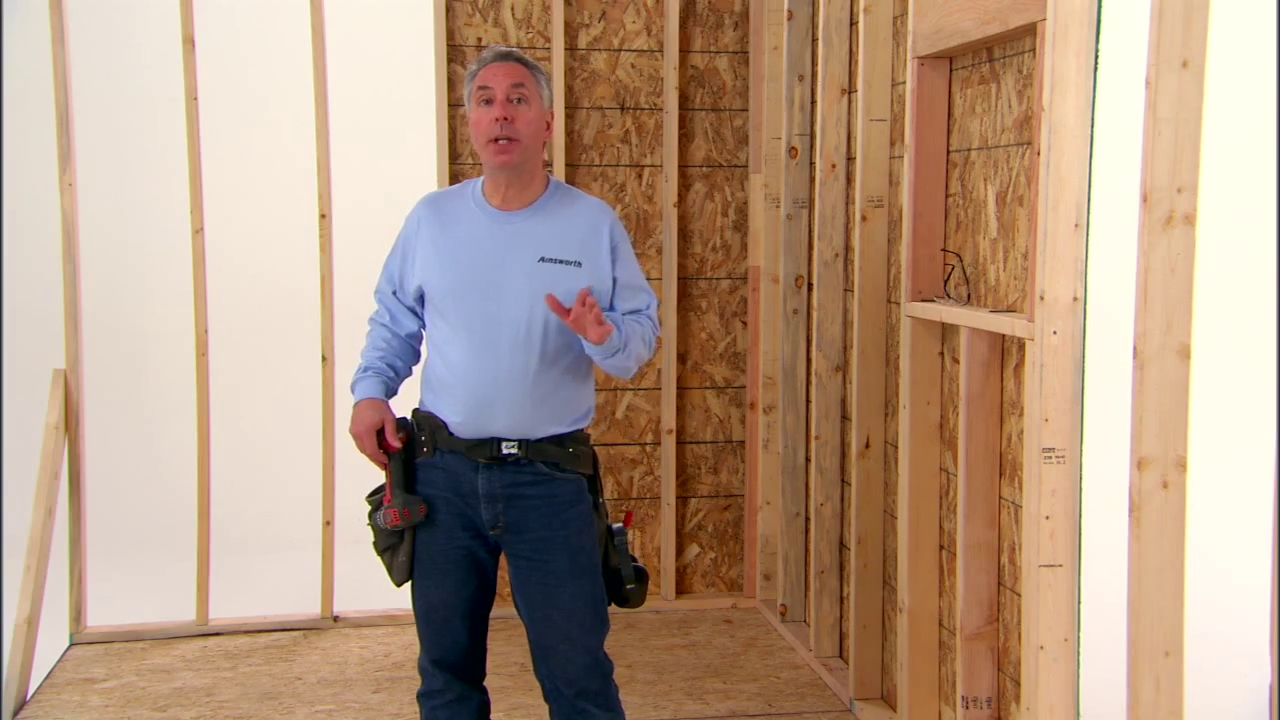person: (348, 46, 660, 718)
